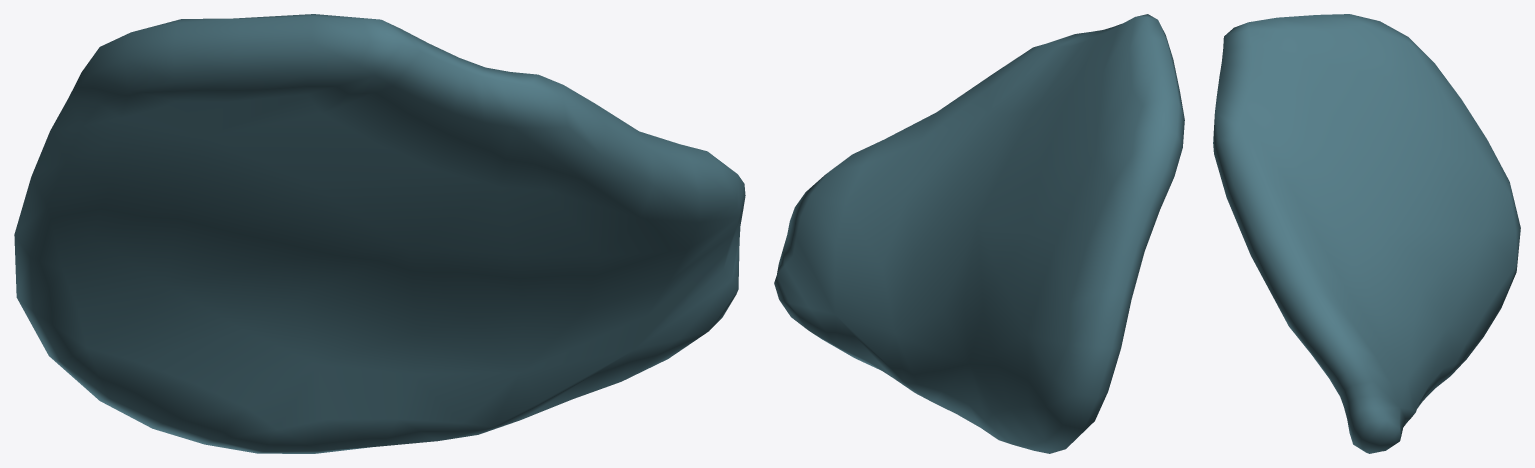
The model's file is Rectus_posterior_minor_capitis_atlas_left.glb.
3 views of the same model, side by side, from view 1: azimuth 30°, elevation 25°; view 2: azimuth 150°, elevation 25°; view 3: azimuth 270°, elevation 25° (orthographic). The views are drawn at different scales.
Parts seen in each view (by area): view 1: Rectus_posterior_minor_capitis_on_atlas.l_Generated_Mesh_Fro; view 2: Rectus_posterior_minor_capitis_on_atlas.l_Generated_Mesh_Fro; view 3: Rectus_posterior_minor_capitis_on_atlas.l_Generated_Mesh_Fro.
Part boxes in pixels (x1,y1,x2,y2): Rectus_posterior_minor_capitis_on_atlas.l_Generated_Mesh_Fro: (14, 14, 745, 453); Rectus_posterior_minor_capitis_on_atlas.l_Generated_Mesh_Fro: (774, 14, 1184, 453); Rectus_posterior_minor_capitis_on_atlas.l_Generated_Mesh_Fro: (1213, 14, 1520, 453).
Size of the model in its own units: 0.00388 by 0.00331 by 0.0027.
